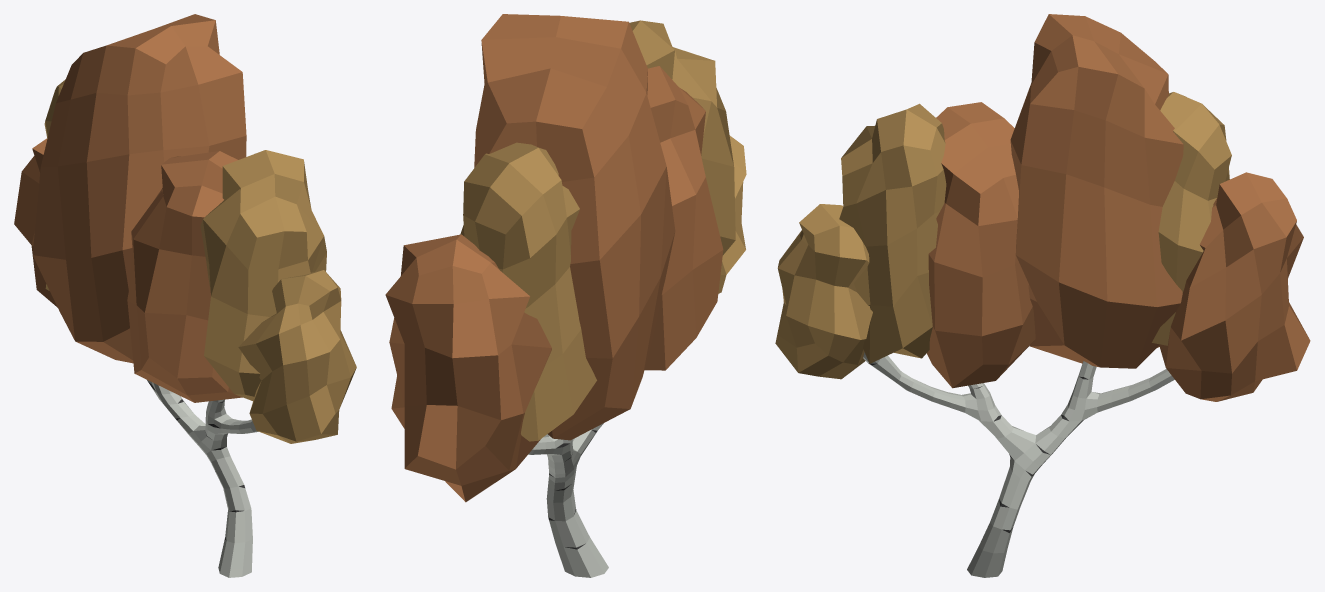
Rendered from birch_autumn4.glb.
3 renders of one model, left to right at view 1: azimuth 30°, elevation 25°; view 2: azimuth 150°, elevation 25°; view 3: azimuth 270°, elevation 25°, orthographic. The views are drawn at different scales.
Parts seen in each view (by area): view 1: BirchTree_Autumn_4; view 2: BirchTree_Autumn_4; view 3: BirchTree_Autumn_4.
Part boxes in pixels (<box>): BirchTree_Autumn_4: <box>14,14,356,577</box>; BirchTree_Autumn_4: <box>385,14,746,577</box>; BirchTree_Autumn_4: <box>775,14,1310,577</box>.
Bounding box in the file's own units: 1.15 × 3.56 × 3.29.
